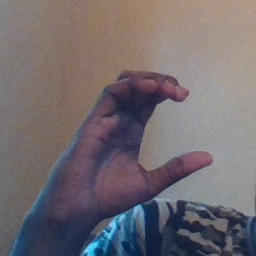C: (117, 61, 218, 200)
